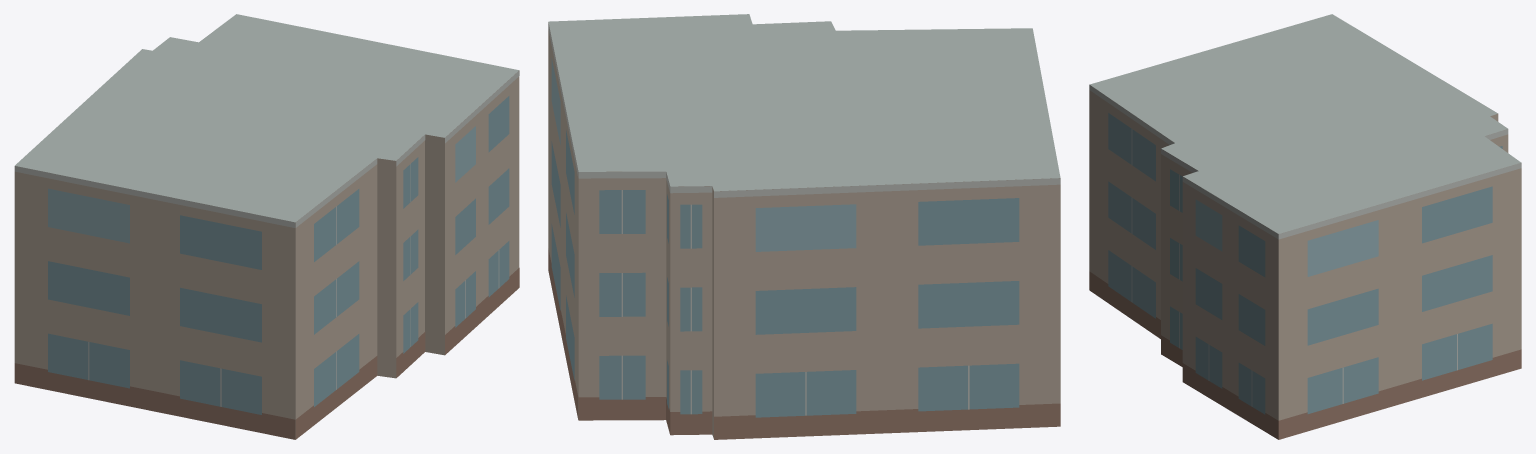
File: survey-upis-32687661.glb
3 renders of one model, left to right at view 1: azimuth 30°, elevation 25°; view 2: azimuth 150°, elevation 25°; view 3: azimuth 270°, elevation 25°, orthographic. The views are drawn at different scales.
Visible parts, largest first — view 1: survey-upis-32687661.tmp; view 2: survey-upis-32687661.tmp; view 3: survey-upis-32687661.tmp.
Part boxes in pixels (x1,y1,x2,y2): survey-upis-32687661.tmp: (14,14,519,439); survey-upis-32687661.tmp: (548,14,1060,439); survey-upis-32687661.tmp: (1089,14,1521,439).
Size of the model in its own units: 20.99 by 9.15 by 17.42.
